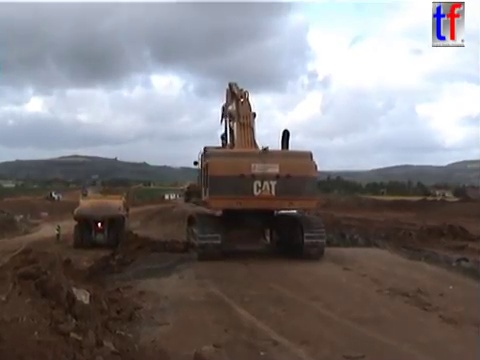excavator: (183, 80, 328, 260)
truck: (70, 191, 130, 250), (181, 182, 205, 204), (42, 190, 62, 202)
worker: (53, 222, 63, 245)
